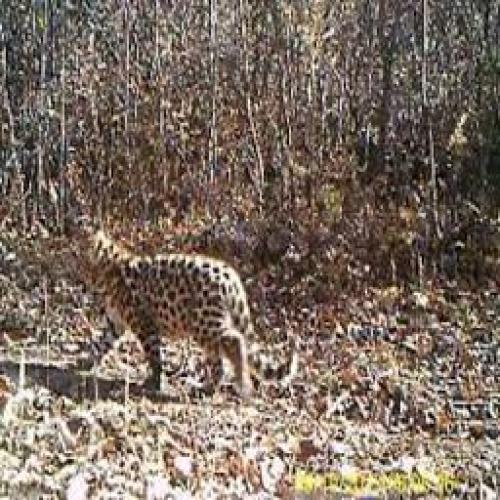amur_leopard-endangered: (69, 229, 303, 401)
